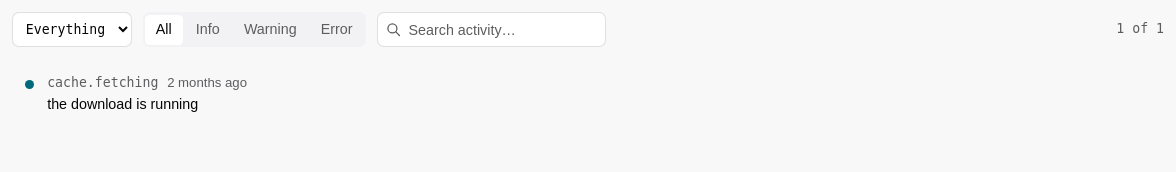
Scenario: ActivityStream › keeps the weights in their own bucket, not duplicated per deployment
Select "ap1" in the dropdown at (72, 30), box [12, 12, 132, 47]
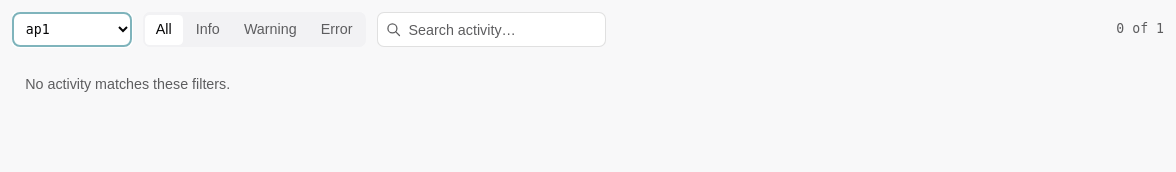
Expected: the text "the download is running" is gone
Select "Weights" in the dropdown at (72, 30), box [12, 12, 132, 47]
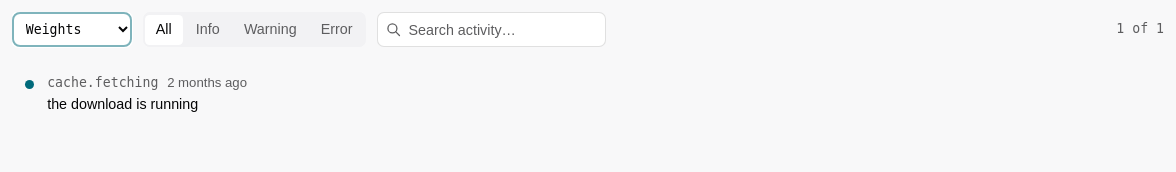
Expected: the text "the download is running" is shown, [47, 96, 198, 112]
